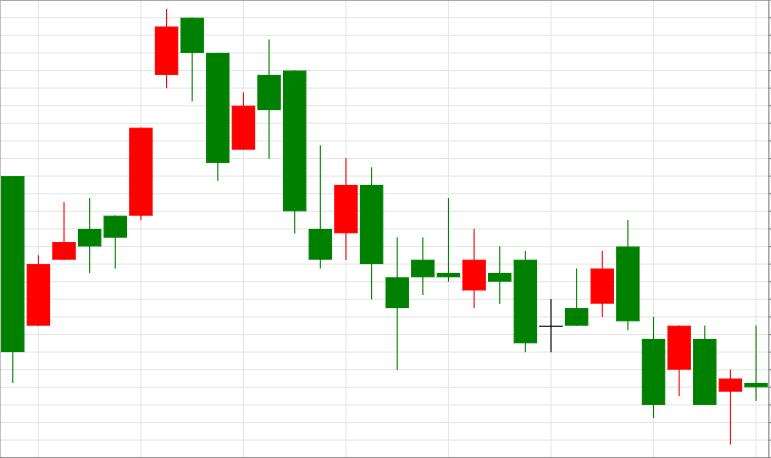bearish_engulfing_fall: (514, 219, 639, 352)
hanging_man_fall: (27, 9, 204, 326)
inverse_hammer_rise: (181, 18, 332, 269)
